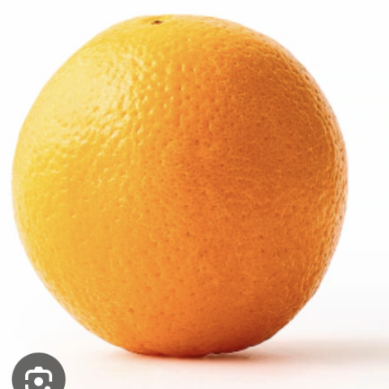orange: (0, 11, 383, 388)
